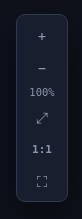
Scenario: DiagramViewport › zooms in and out by one step
Click the button with test id "zoom-in" at {"x": 42, "y": 35}, box [27,20,57,50]
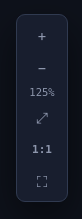
Result: the text with test id "zoom-level" reads "125%" at [29,86,55,98]
Click the button with test id "zoom-out" at {"x": 42, "y": 67}, box [27,52,57,82]
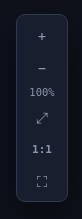
Click the button with test id "zoom-out" at {"x": 42, "y": 67}, box [27,52,57,82]
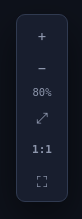
Result: the text with test id "zoom-level" reads "80%" at [32,86,52,98]
